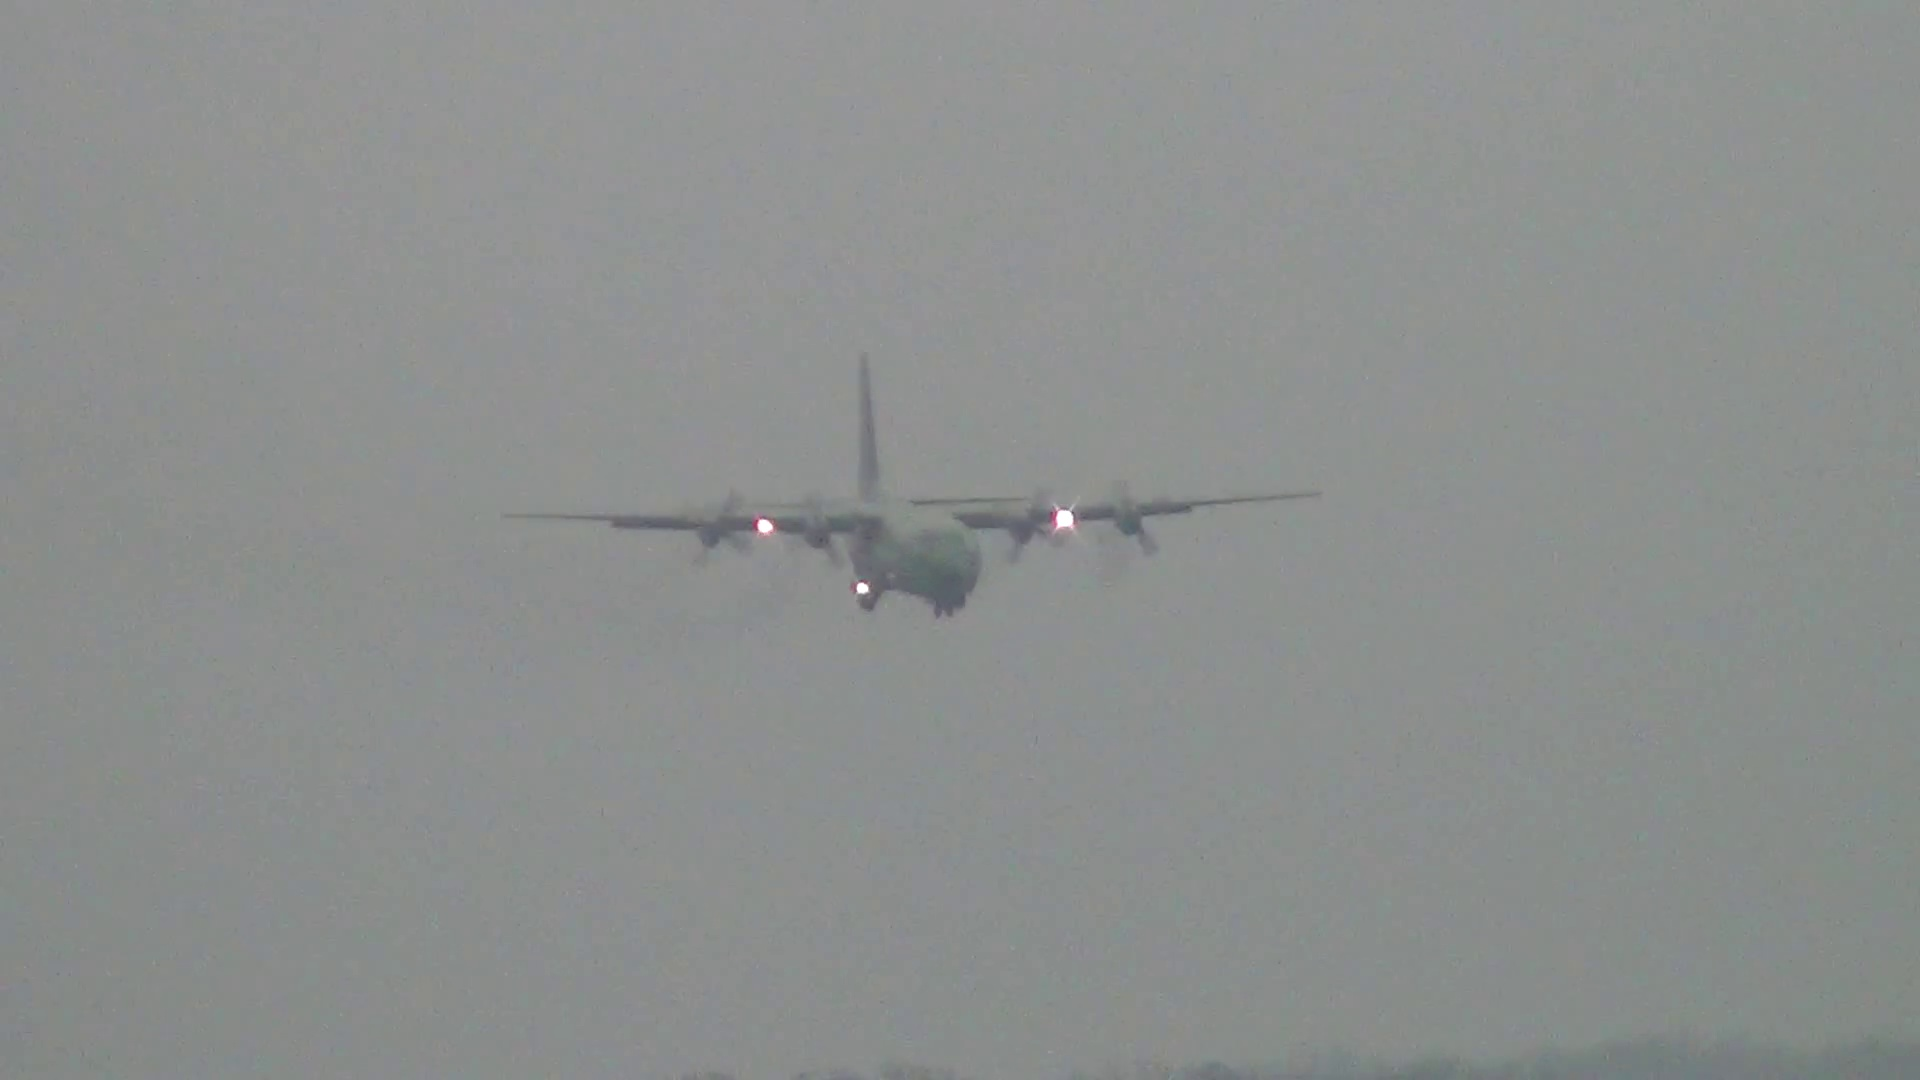Airplane: (509, 345, 1329, 622)
